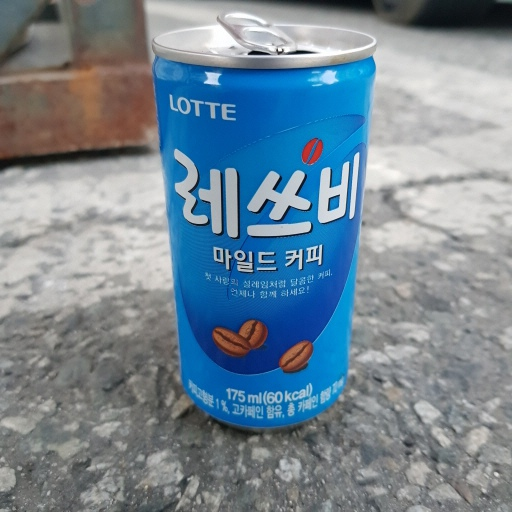Metal_0: (150, 11, 379, 437)
